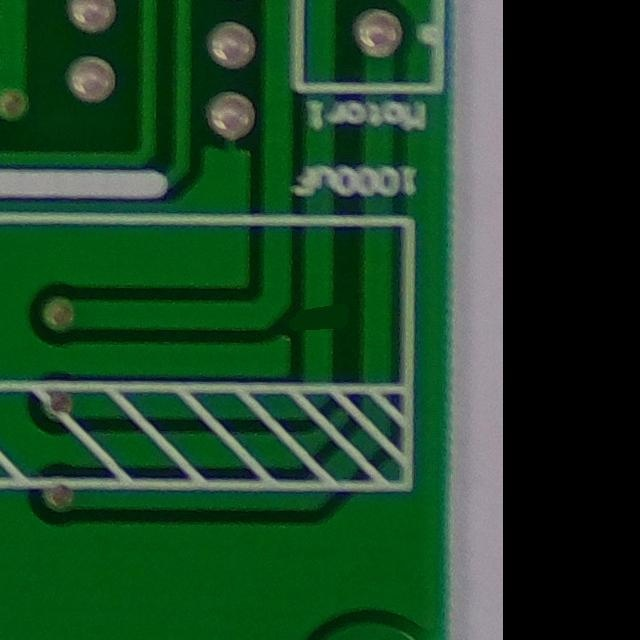open_circuit: (292, 293, 349, 348)
